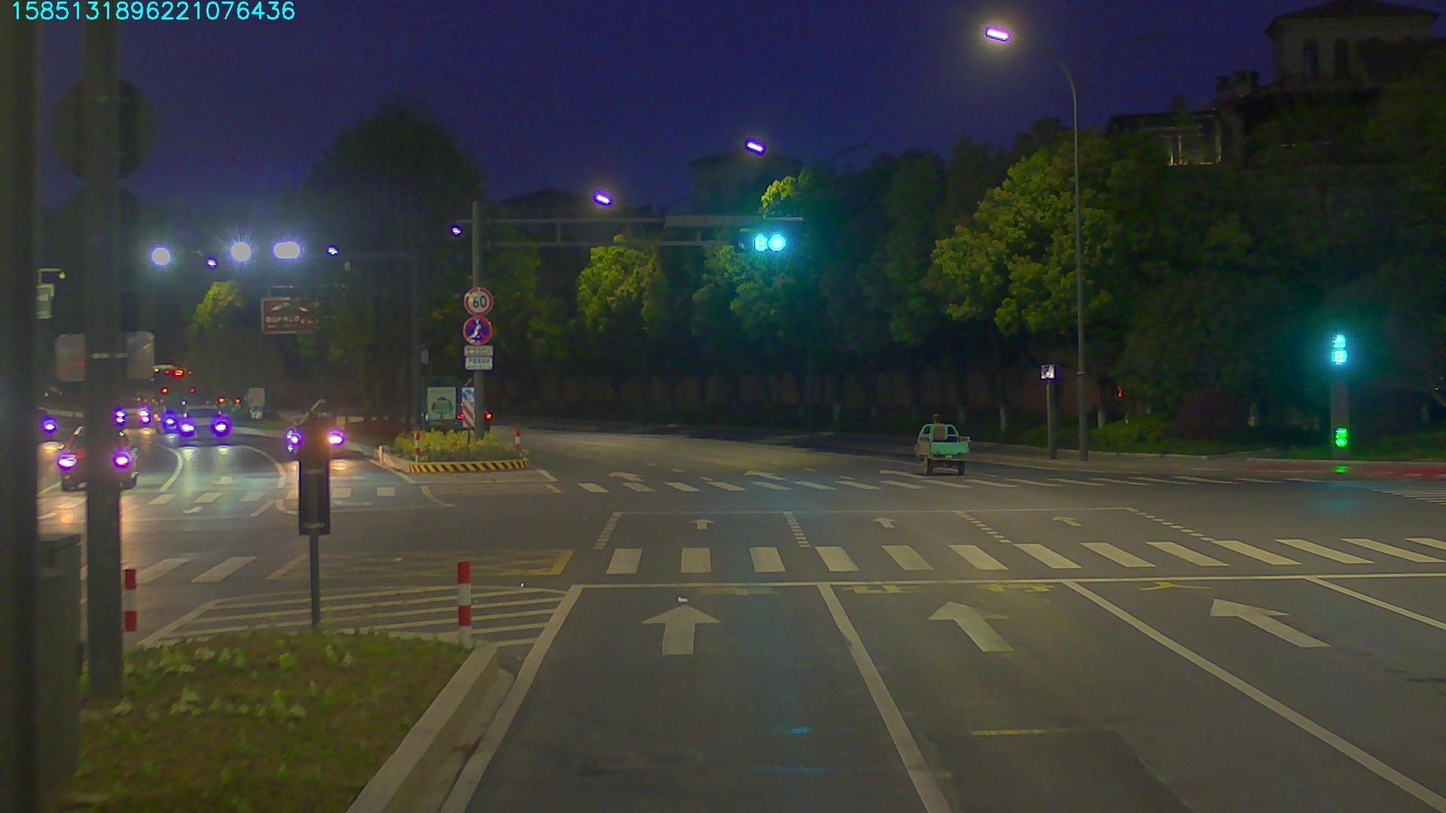green: (740, 228, 795, 257)
